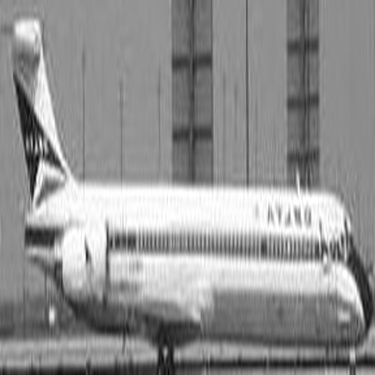airplane: (1, 6, 364, 363)
